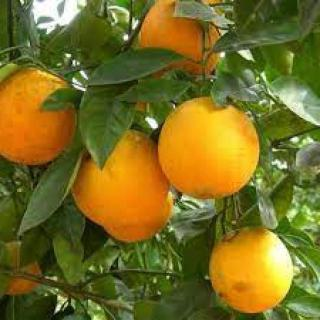orange: (68, 111, 174, 270), (170, 78, 278, 214), (0, 48, 88, 180), (129, 0, 231, 88)
